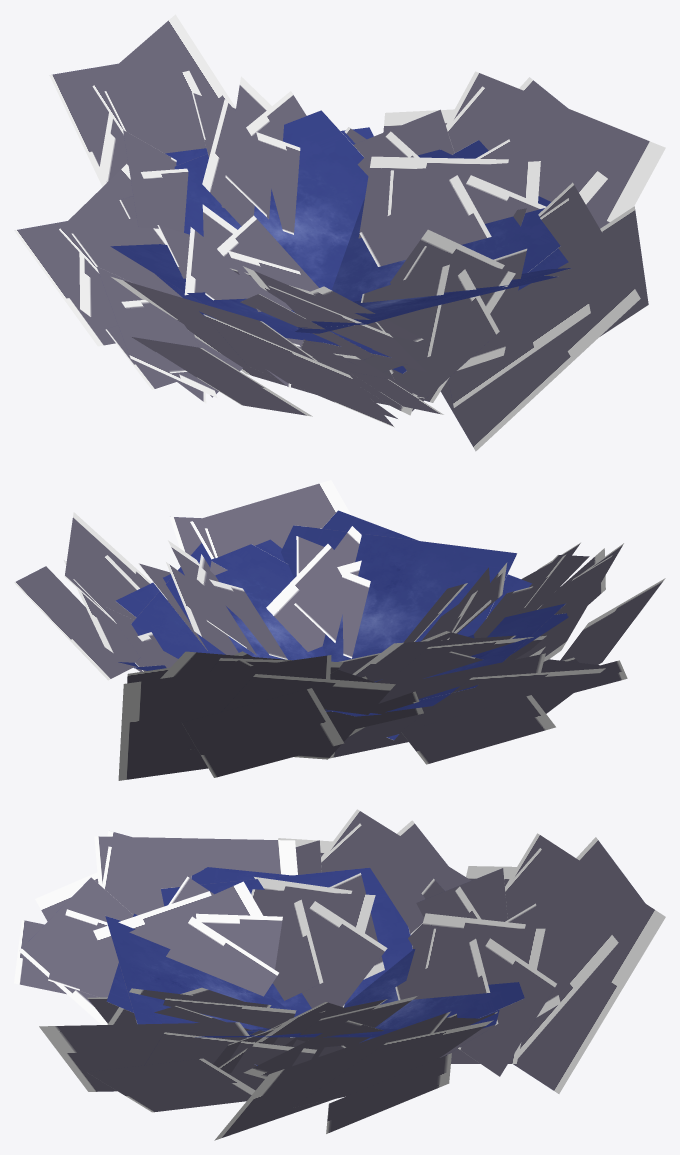
3 views of the same model, one above another, from view 1: azimuth 30°, elevation 25°; view 2: azimuth 150°, elevation 25°; view 3: azimuth 270°, elevation 25° (orthographic). The views are drawn at different scales.
Parts seen in each view (by area): view 1: mesh_baiwu; view 2: mesh_baiwu; view 3: mesh_baiwu.
Boxes of the visible parts, x1=… form: mesh_baiwu: x1=14, y1=14, x2=665, y2=451; mesh_baiwu: x1=14, y1=480, x2=665, y2=780; mesh_baiwu: x1=14, y1=809, x2=665, y2=1140.
Size of the model in its own units: 10401 by 3729 by 11118.
